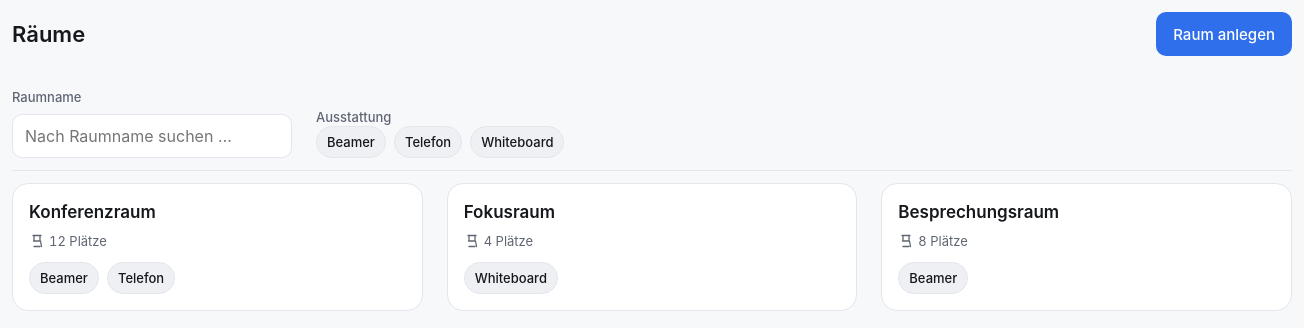
it: RoomsPage › narrows the list immediately when an equipment chip is selected
Expected: the text "Konferenzraum" is shown, [29, 202, 156, 222]
Click the button "Beamer".
click(351, 142)  # box [316, 126, 386, 158]
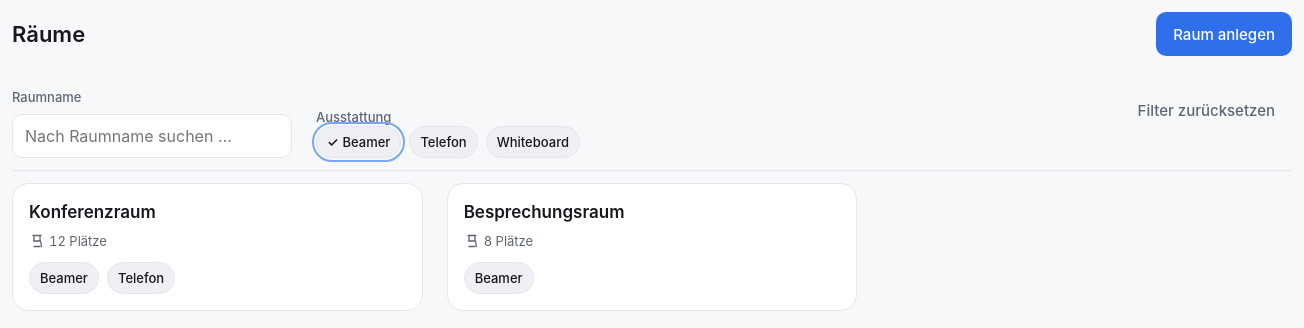
Expected: the text "Konferenzraum" is shown, [29, 202, 156, 222]
Result: the link "Fokusraum" is gone
